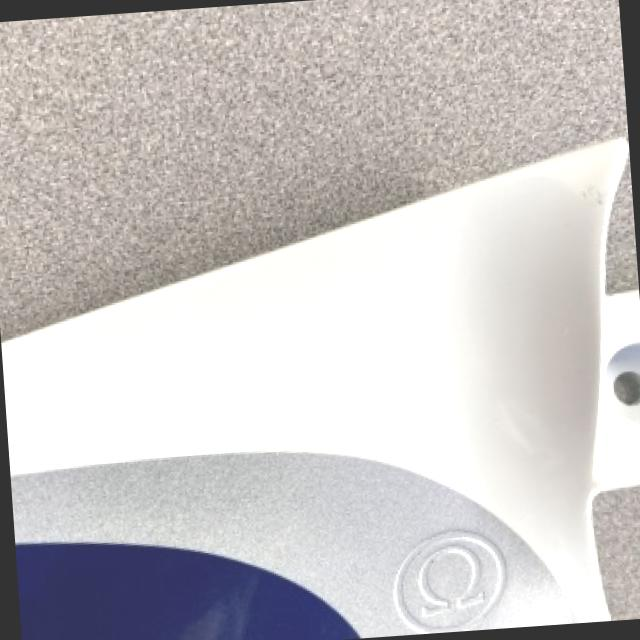healthy: (1, 139, 640, 636)
